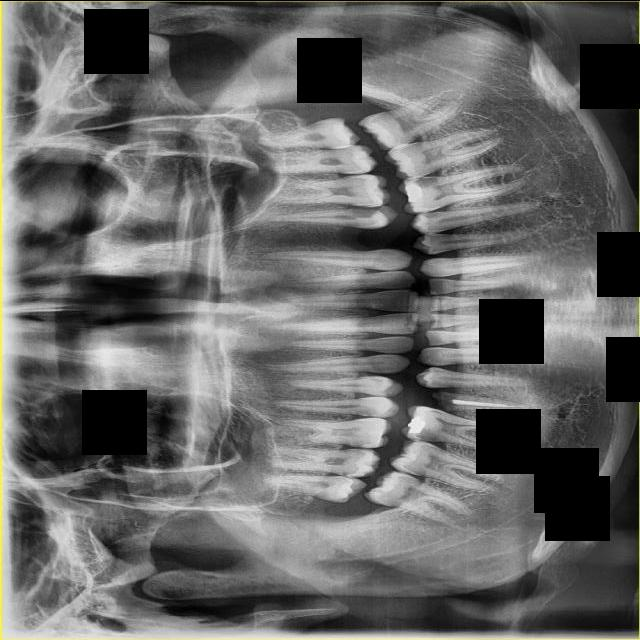74: (453, 398, 526, 409)
NucleOSS Implant: (404, 413, 427, 438), (402, 180, 425, 204)
Sterngold Implant: (433, 388, 457, 412), (346, 204, 386, 217), (413, 427, 448, 441), (408, 176, 445, 186), (395, 464, 418, 476), (355, 406, 380, 417), (425, 405, 448, 416), (337, 467, 355, 478), (421, 211, 441, 219), (356, 441, 368, 448), (413, 170, 426, 176), (351, 448, 368, 452), (423, 207, 438, 211)
